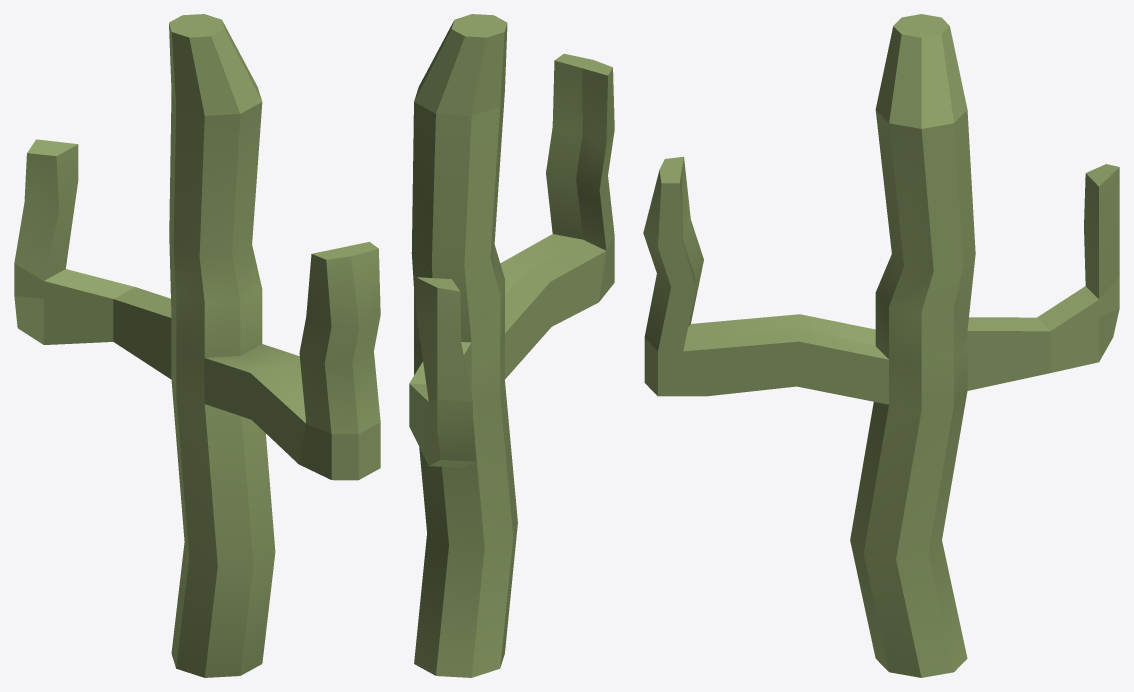
Rendered from BigKacktus.fbx.
3 views of the same model, side by side, from view 1: azimuth 30°, elevation 25°; view 2: azimuth 150°, elevation 25°; view 3: azimuth 270°, elevation 25° (orthographic). The views are drawn at different scales.
Parts seen in each view (by area): view 1: pCylinder2; view 2: pCylinder2; view 3: pCylinder2.
Part boxes in pixels (box(x1,y1,x2,y2)): pCylinder2: box(14, 14, 380, 677); pCylinder2: box(409, 14, 614, 677); pCylinder2: box(643, 14, 1119, 677).
Bounding box in the file's own units: 3.65 × 14.96 × 10.37.
